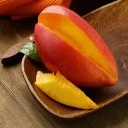mango: (34, 7, 118, 90)
